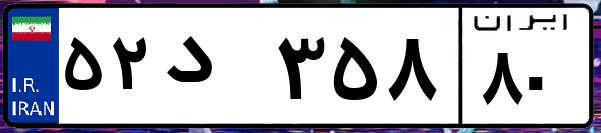0: (525, 38, 570, 115)
2: (110, 28, 158, 98)
3: (270, 28, 330, 110)
5: (330, 28, 385, 110), (57, 26, 110, 100)
8: (385, 28, 445, 110), (475, 38, 525, 113)
د: (158, 20, 270, 120)
